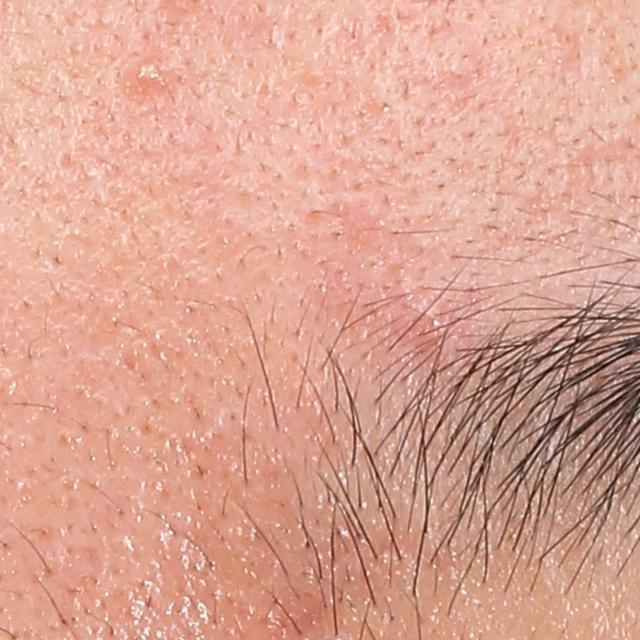pustule: (134, 57, 169, 89)
